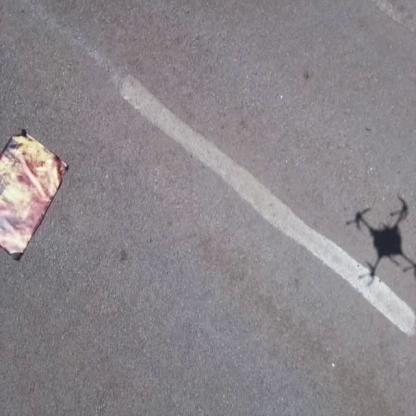fire-poster: (0, 126, 70, 262)
